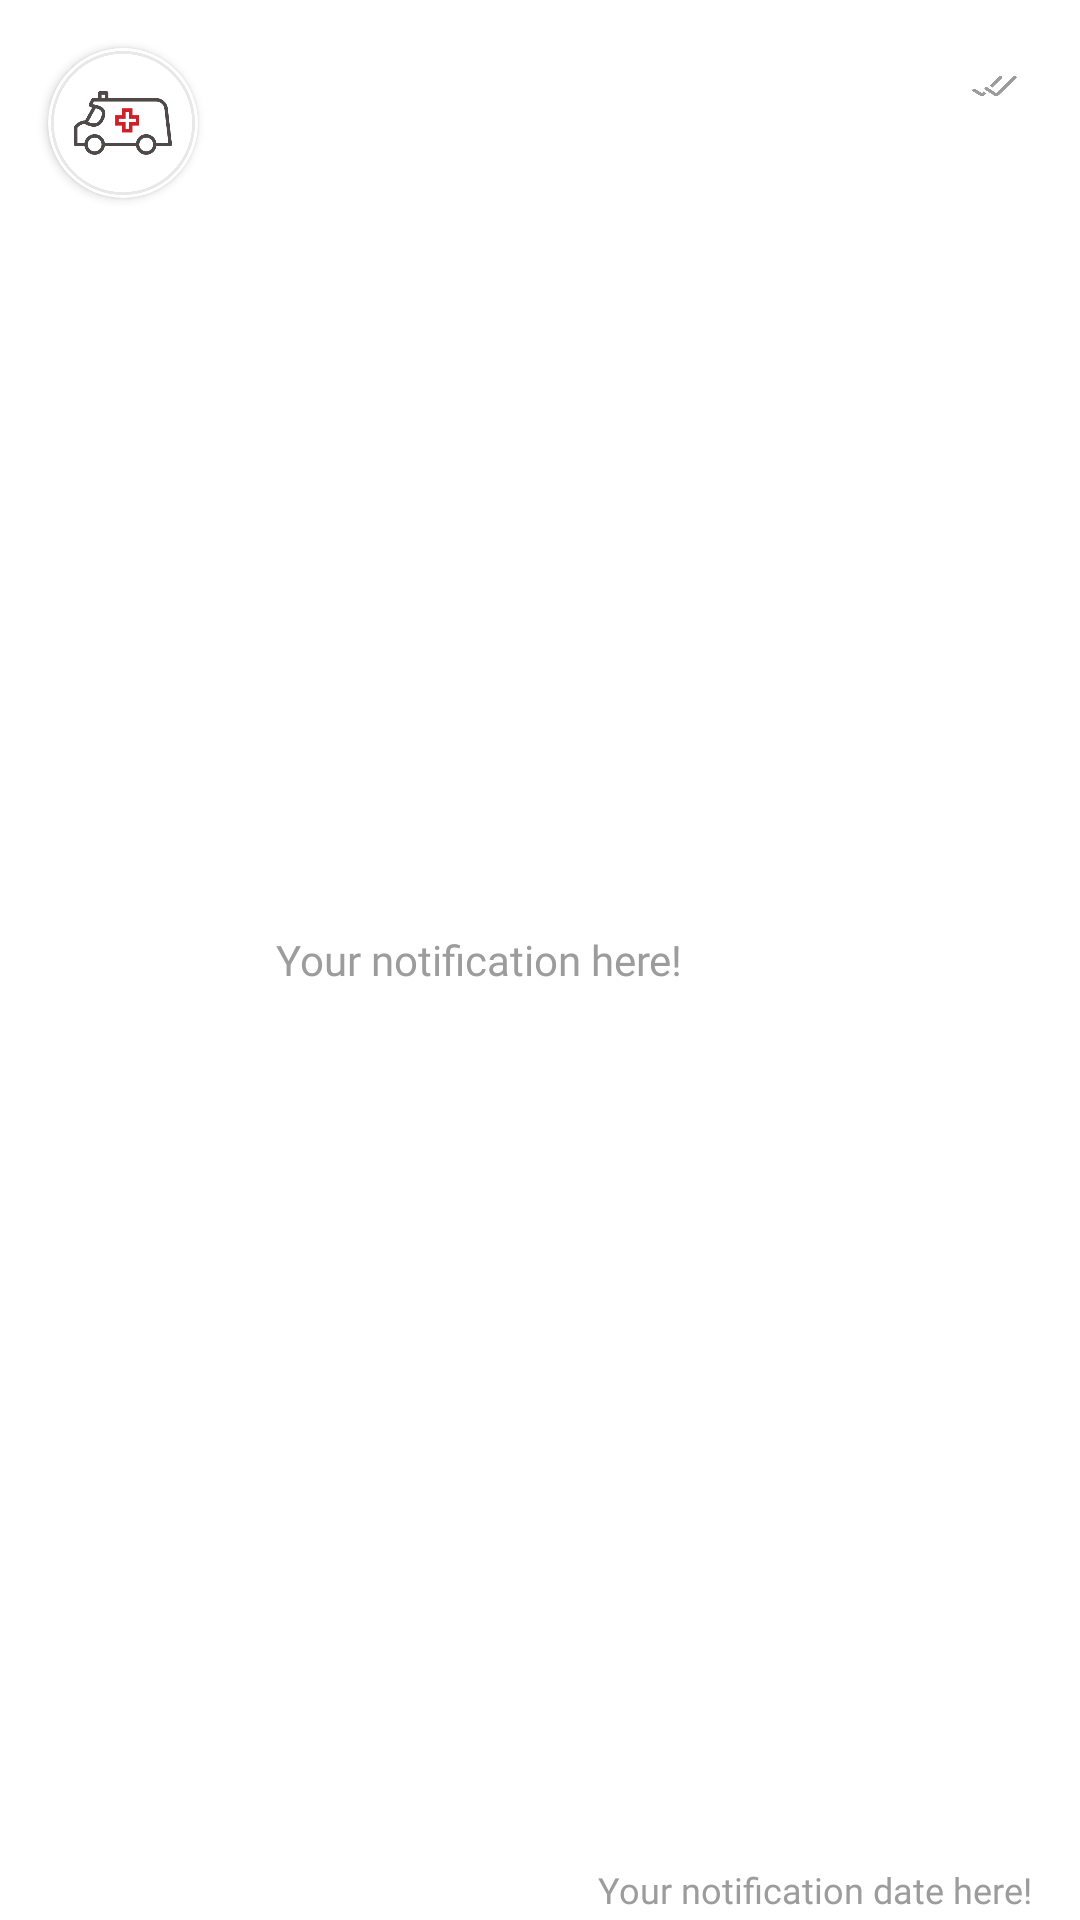

Named icons in this screenshot (1080 x 1920) and their bounding boxes, box=[x1, y1, x2, y2]:
ambulance example: box=[48, 56, 172, 198]
mark as read: box=[972, 76, 1017, 96]
